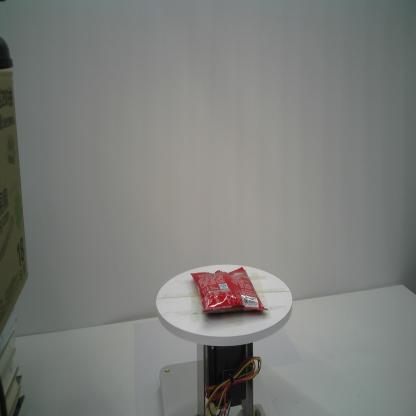Instant Drink: (189, 263, 269, 317)
